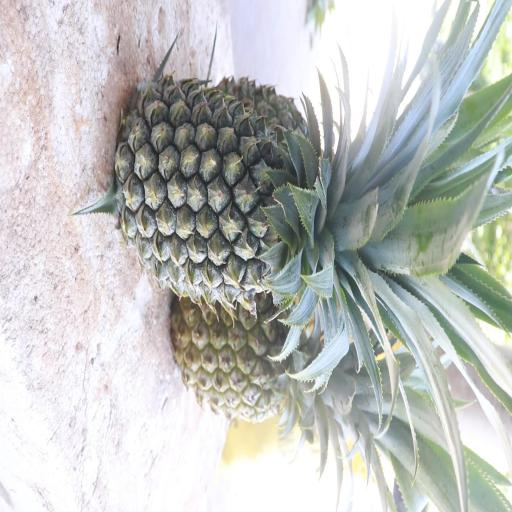------------------------------: (168, 240, 399, 434)
